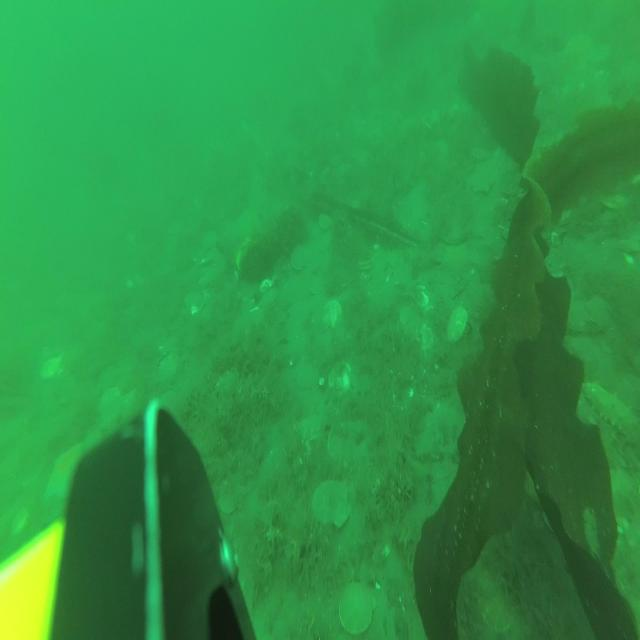holothurian: (581, 374, 640, 450)
scallop: (313, 479, 353, 533), (340, 580, 374, 635), (586, 291, 610, 332), (98, 390, 122, 430), (427, 143, 451, 181), (328, 359, 353, 394), (218, 480, 241, 518), (400, 303, 423, 338), (159, 354, 182, 388), (449, 306, 467, 348), (42, 352, 62, 387), (472, 166, 496, 193), (291, 243, 308, 277), (186, 288, 204, 320), (324, 299, 342, 328)
starfish: (48, 441, 83, 508)
